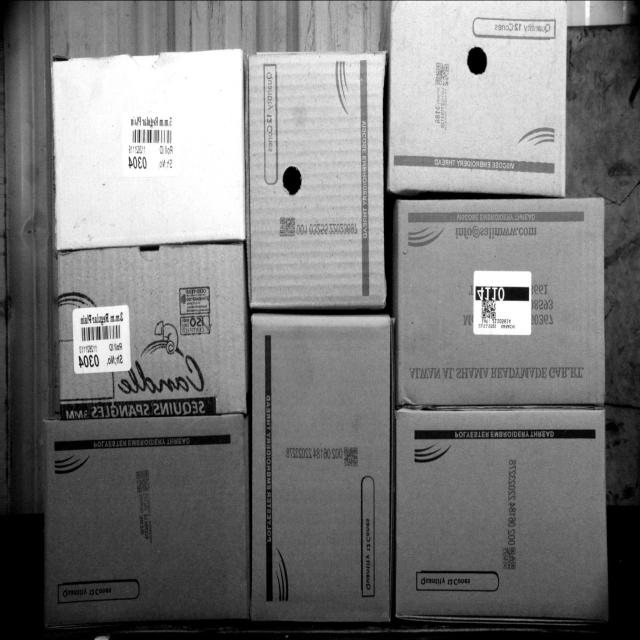cardboxes: (395, 408, 607, 628), (395, 197, 607, 404), (248, 320, 389, 623), (40, 428, 249, 616), (56, 48, 238, 238), (393, 0, 566, 195), (249, 59, 383, 308), (391, 5, 565, 192), (54, 249, 243, 416)
